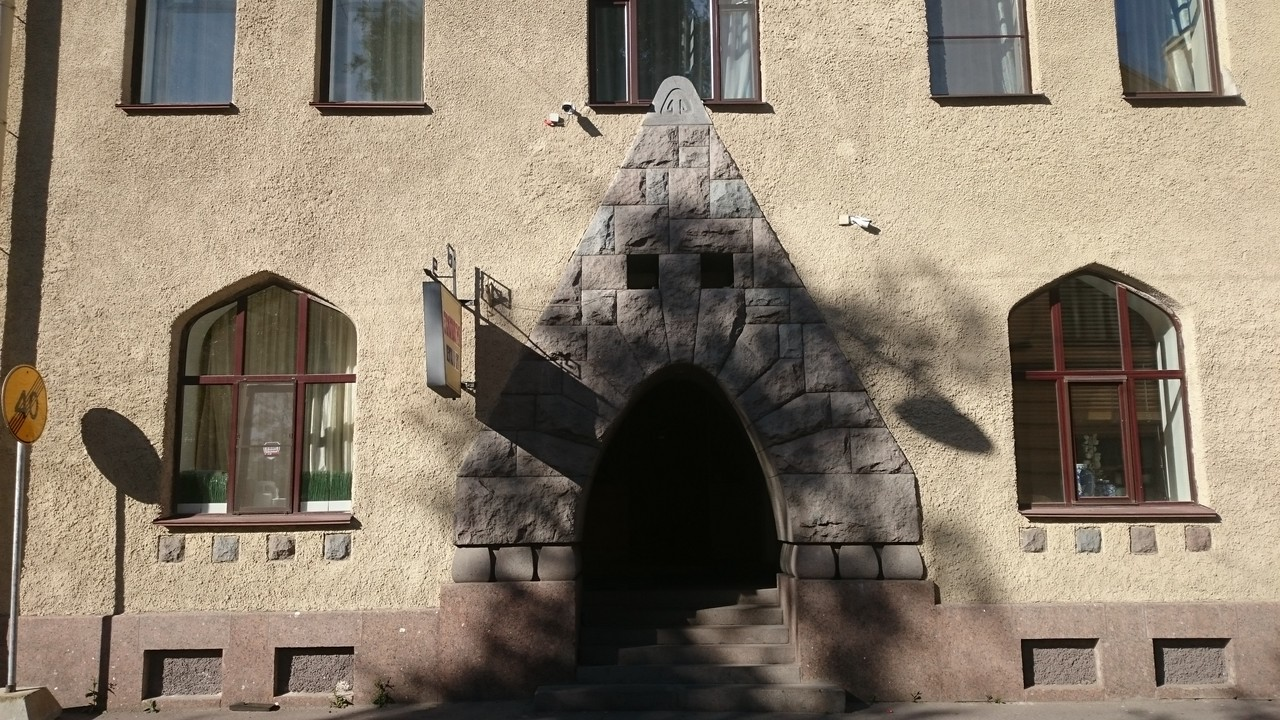cantilever: (424, 263, 489, 397)
window: (161, 269, 362, 523), (1017, 267, 1186, 507)
